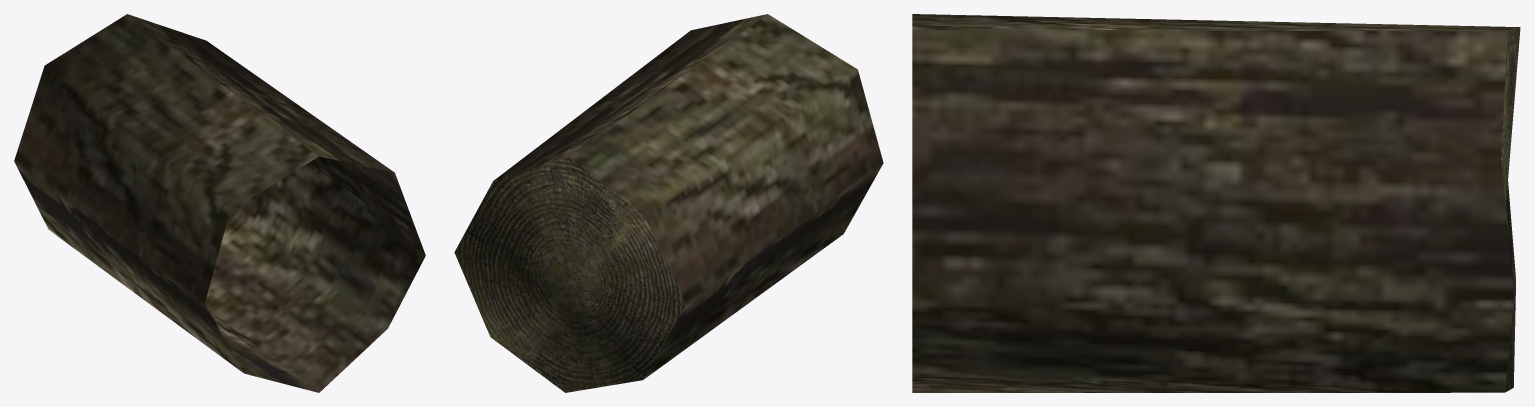
The model's file is KM_VOB_ROOF_BEAM_01.glb.
The picture shows the model from 3 angles, left to right: view 1: azimuth 30°, elevation 25°; view 2: azimuth 150°, elevation 25°; view 3: azimuth 270°, elevation 25°; orthographic projection. The views are drawn at different scales.
Visible parts, largest first — view 1: Mesh; view 2: Mesh; view 3: Mesh.
Boxes of the visible parts, x1=… form: Mesh: x1=14, y1=14, x2=425, y2=392; Mesh: x1=454, y1=14, x2=883, y2=392; Mesh: x1=912, y1=14, x2=1520, y2=392.
Size of the model in its own units: 0.3069 by 0.3053 by 0.4635.
Materials: 2 (2 with a texture image).
